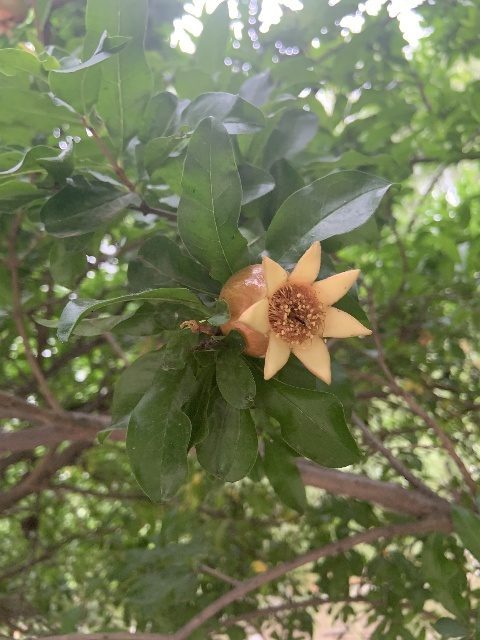early-fruit: (217, 240, 372, 387)
